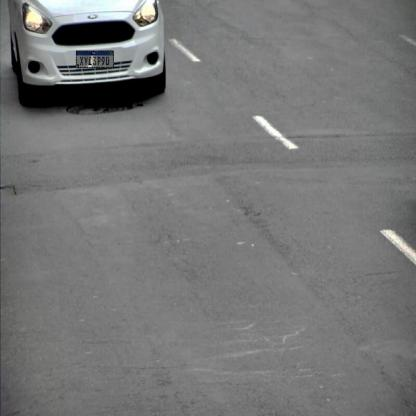PlacaM: (76, 51, 114, 68)
